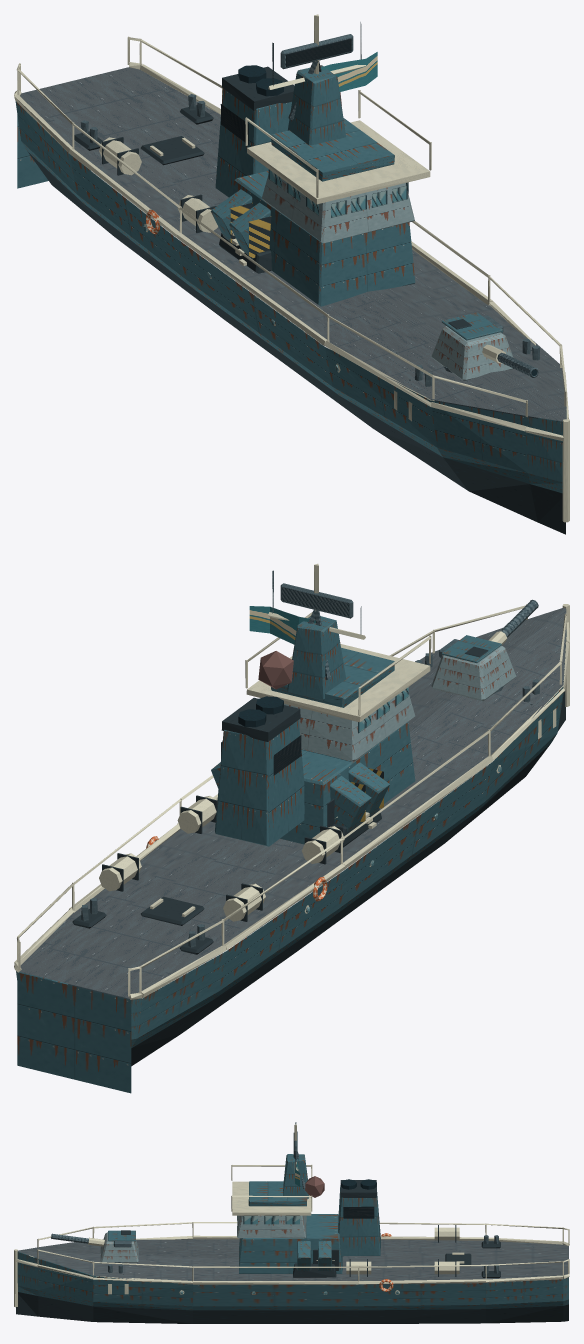
The model's file is reference-corvette.glb.
3 views of the same model, one above another, from view 1: azimuth 30°, elevation 25°; view 2: azimuth 150°, elevation 25°; view 3: azimuth 270°, elevation 25° (orthographic). The views are drawn at different scales.
Parts seen in each view (by area): view 1: body; view 2: body; view 3: body.
Boxes of the visible parts, x1=… form: body: x1=14, y1=14, x2=569, y2=534; body: x1=14, y1=563, x2=569, y2=1093; body: x1=14, y1=1122, x2=569, y2=1323.
Bounding box in the file's own units: 6.45 × 12.1 × 32.19.
Materials: 1 (1 with a texture image).
